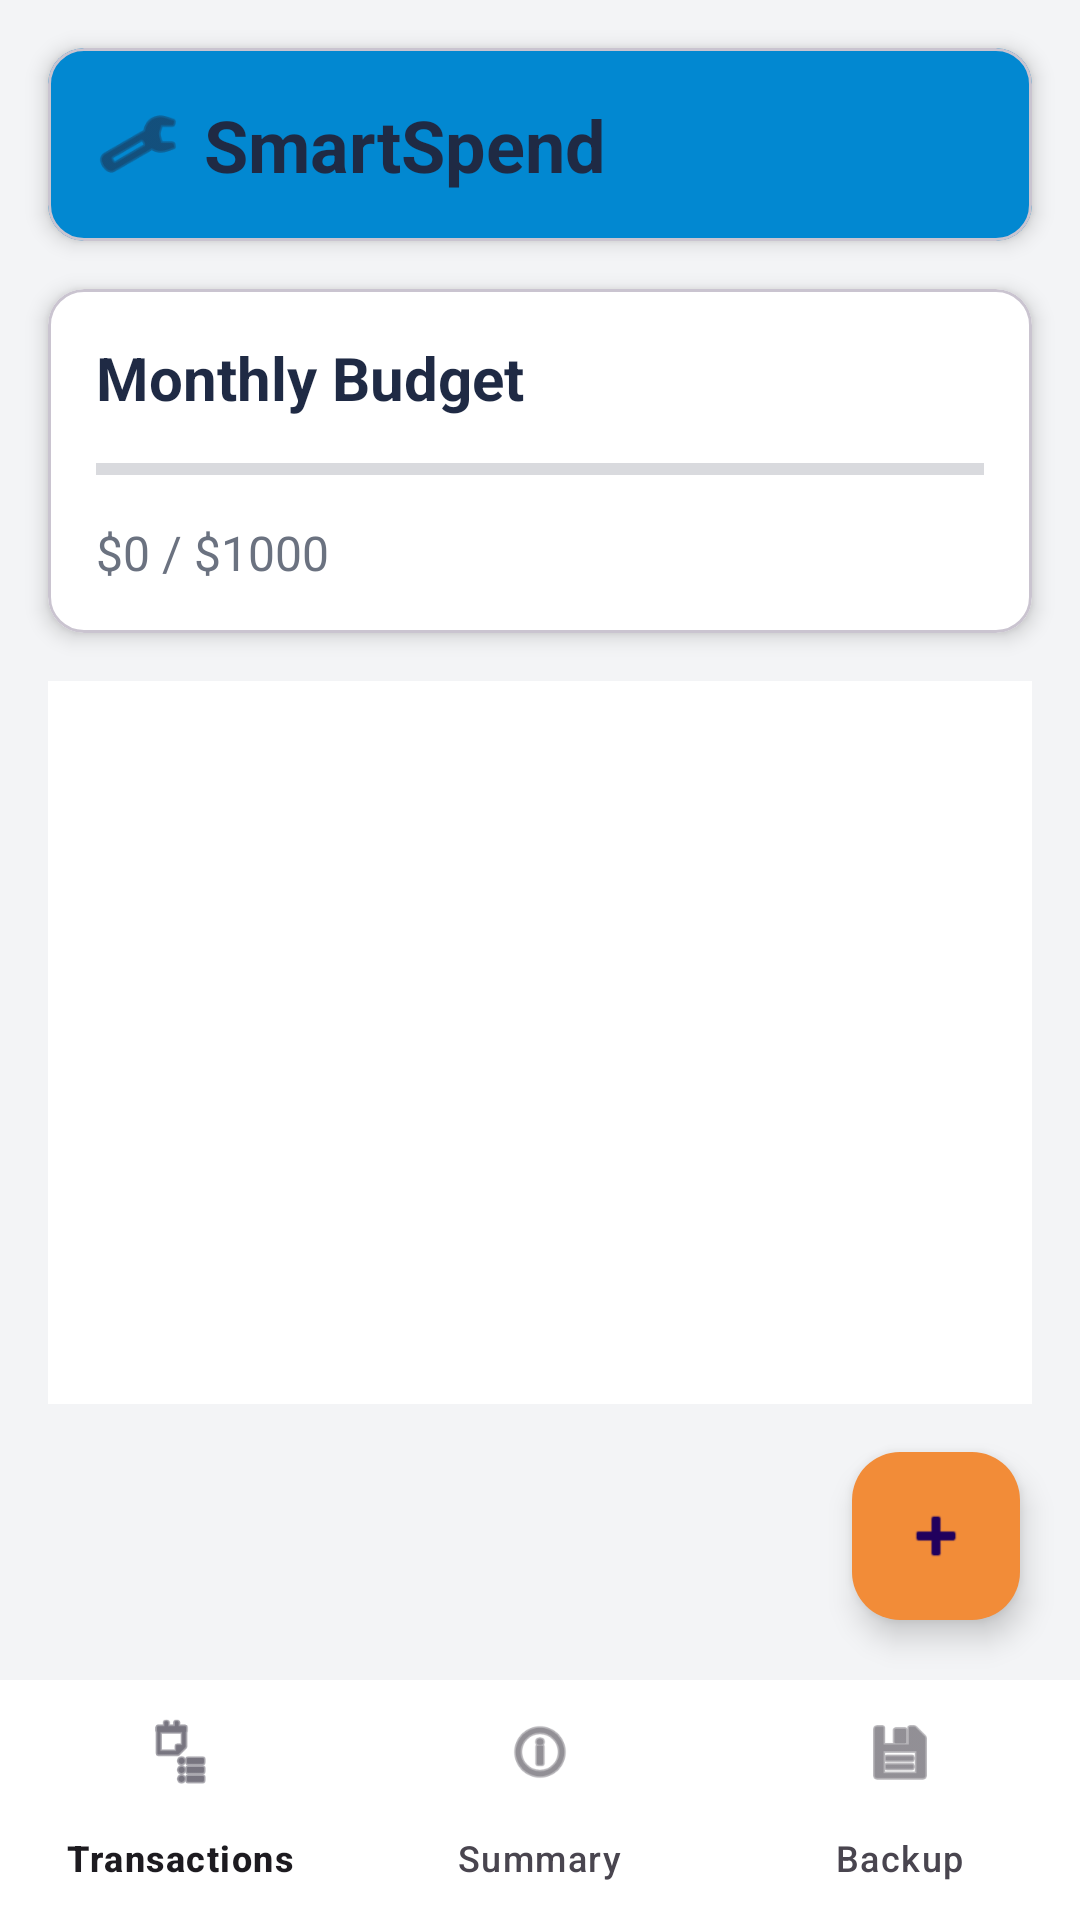

Screen size 1080w x 1920h. Icon name, then its box in pixels as BBox(x1, y1, x2, y2):
add: BBox(852, 1452, 1020, 1620)
manage: BBox(100, 115, 176, 173)
